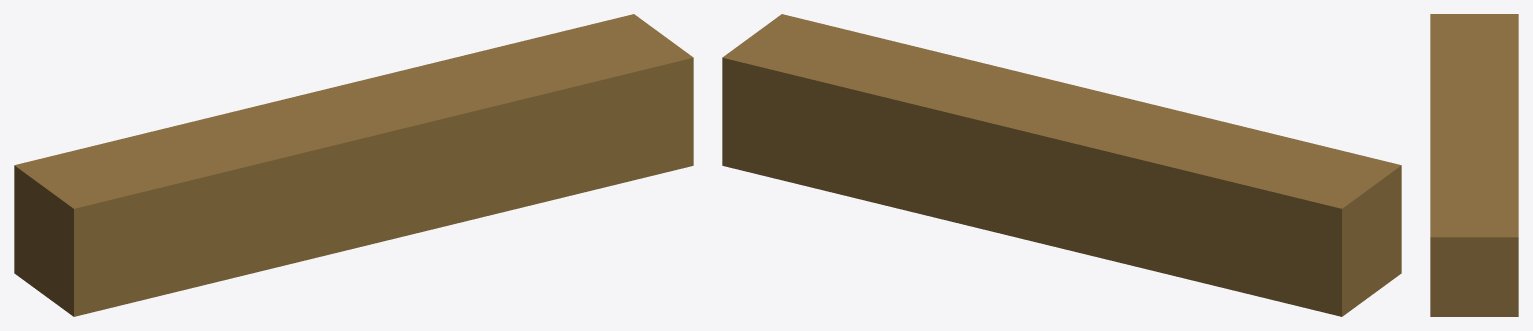
File: DirtFloor.fbx
3 renders of one model, left to right at view 1: azimuth 30°, elevation 25°; view 2: azimuth 150°, elevation 25°; view 3: azimuth 270°, elevation 25°, orthographic. The views are drawn at different scales.
Parts seen in each view (by area): view 1: pCube88; view 2: pCube88; view 3: pCube88.
Part boxes in pixels (x1,y1,x2,y2): pCube88: [14, 14, 693, 316]; pCube88: [722, 14, 1401, 316]; pCube88: [1430, 14, 1518, 316].
Size of the model in its own units: 2400 by 400 by 400.
